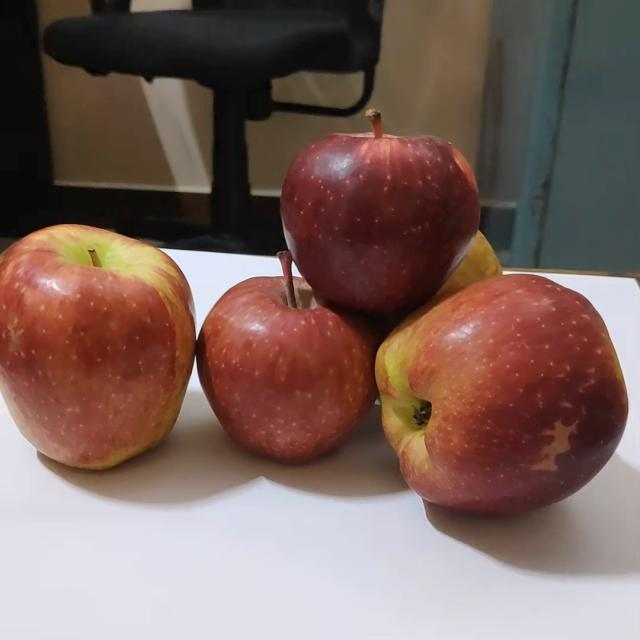apple: (375, 273, 626, 528), (0, 220, 207, 466), (277, 104, 487, 318), (194, 246, 381, 465), (419, 223, 519, 309)
